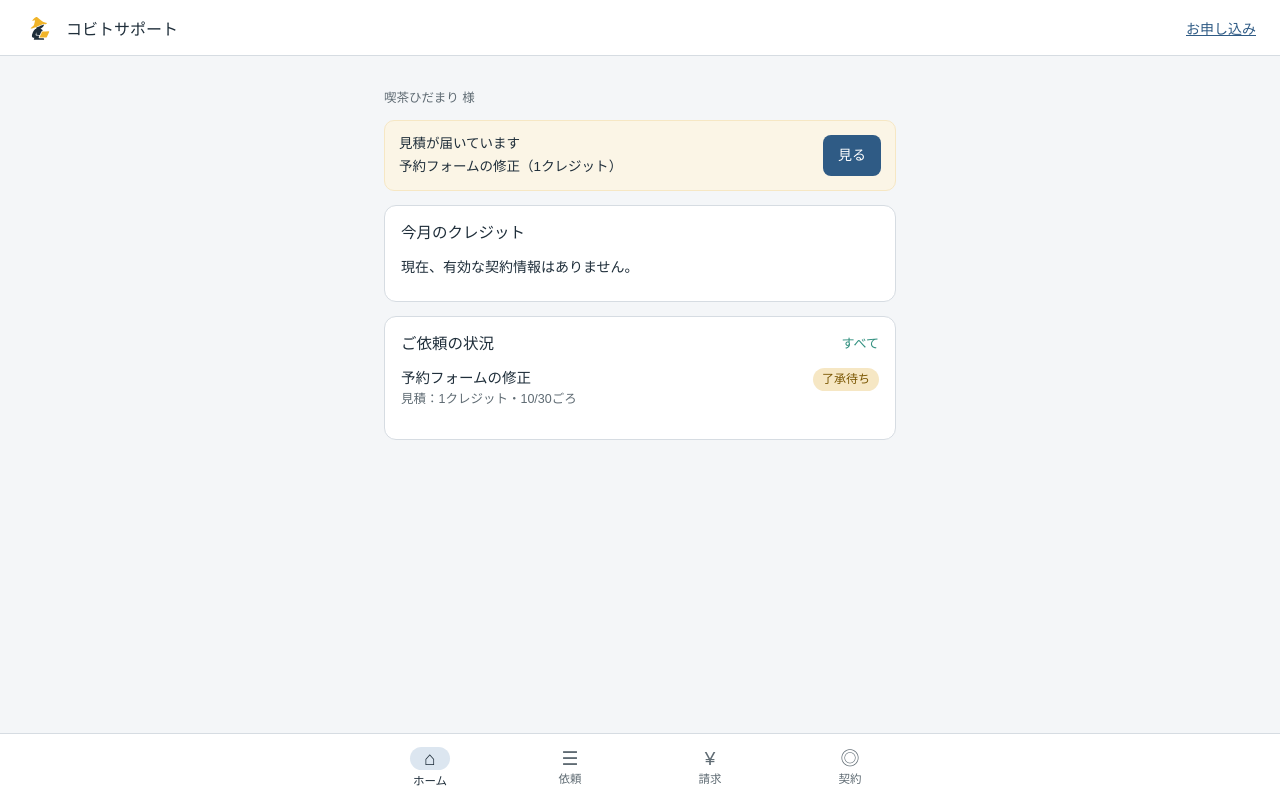
Test: application request routes › rechecks access on customer navigation before loading newly forbidden business data
This screenshot has width=1280, height=800.
Step 1. Click the link "すべて" → x=860, y=344, box [841,335,879,354]
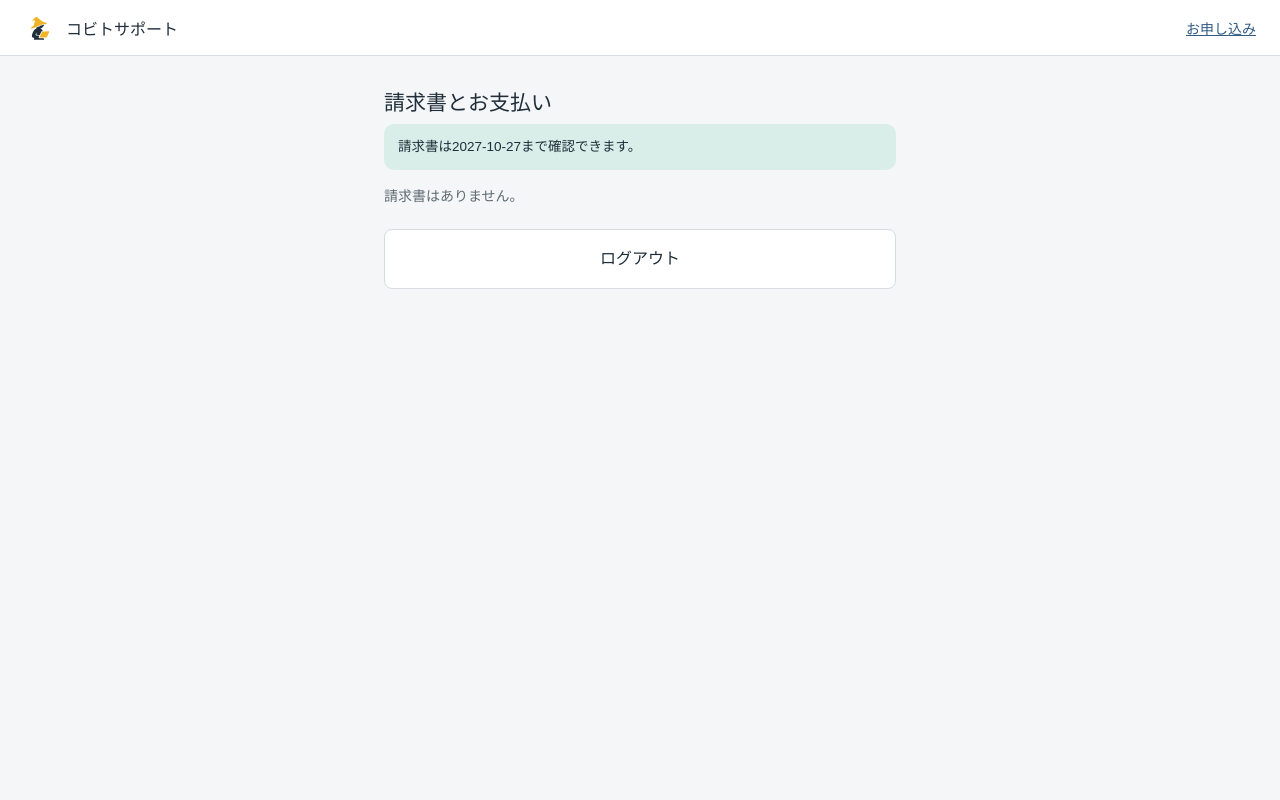
expect the heading "請求書とお支払い" is shown: met, box [384,91,552,114]
